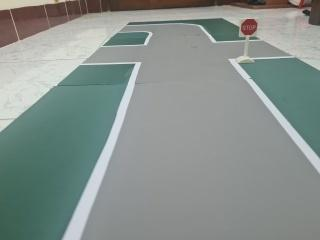stop: (235, 17, 261, 40)
